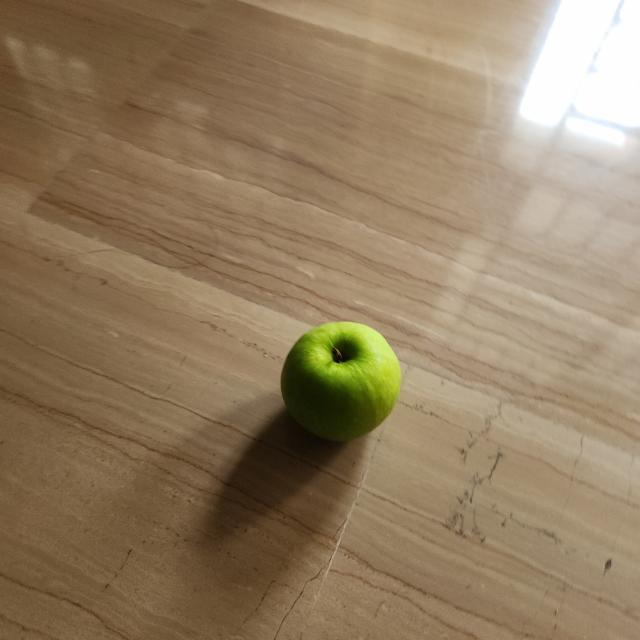apple: (274, 317, 407, 447)
